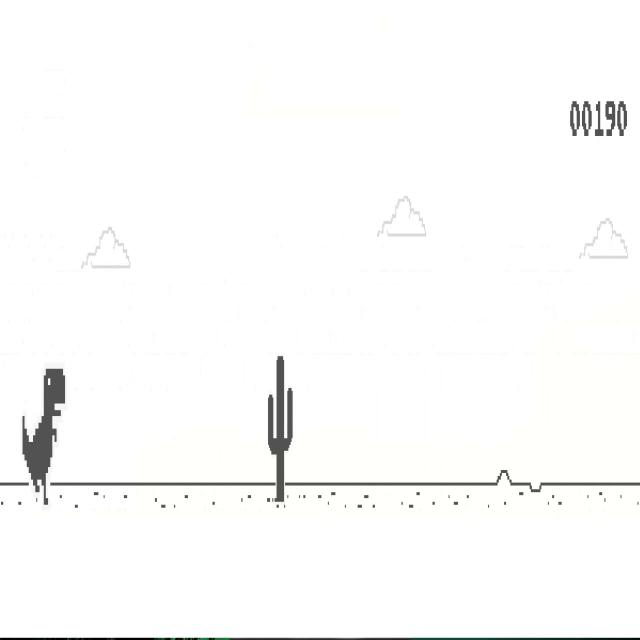cacto: (267, 354, 293, 502)
dino: (21, 368, 66, 507)
